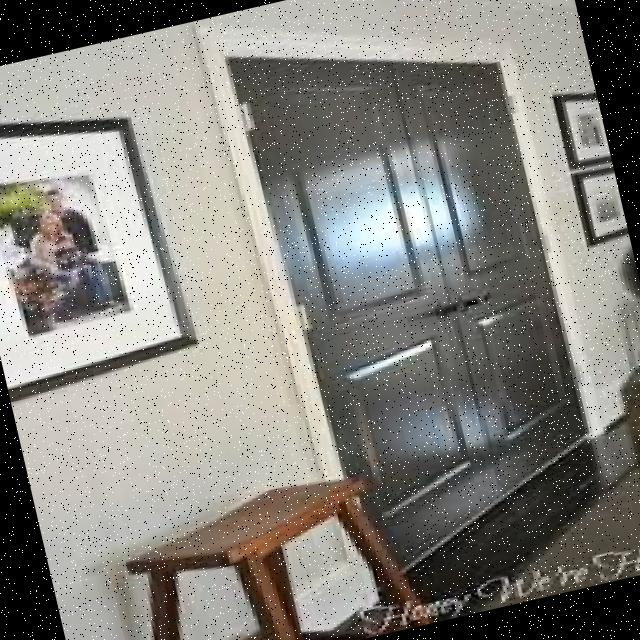Door: (227, 0, 614, 572)
